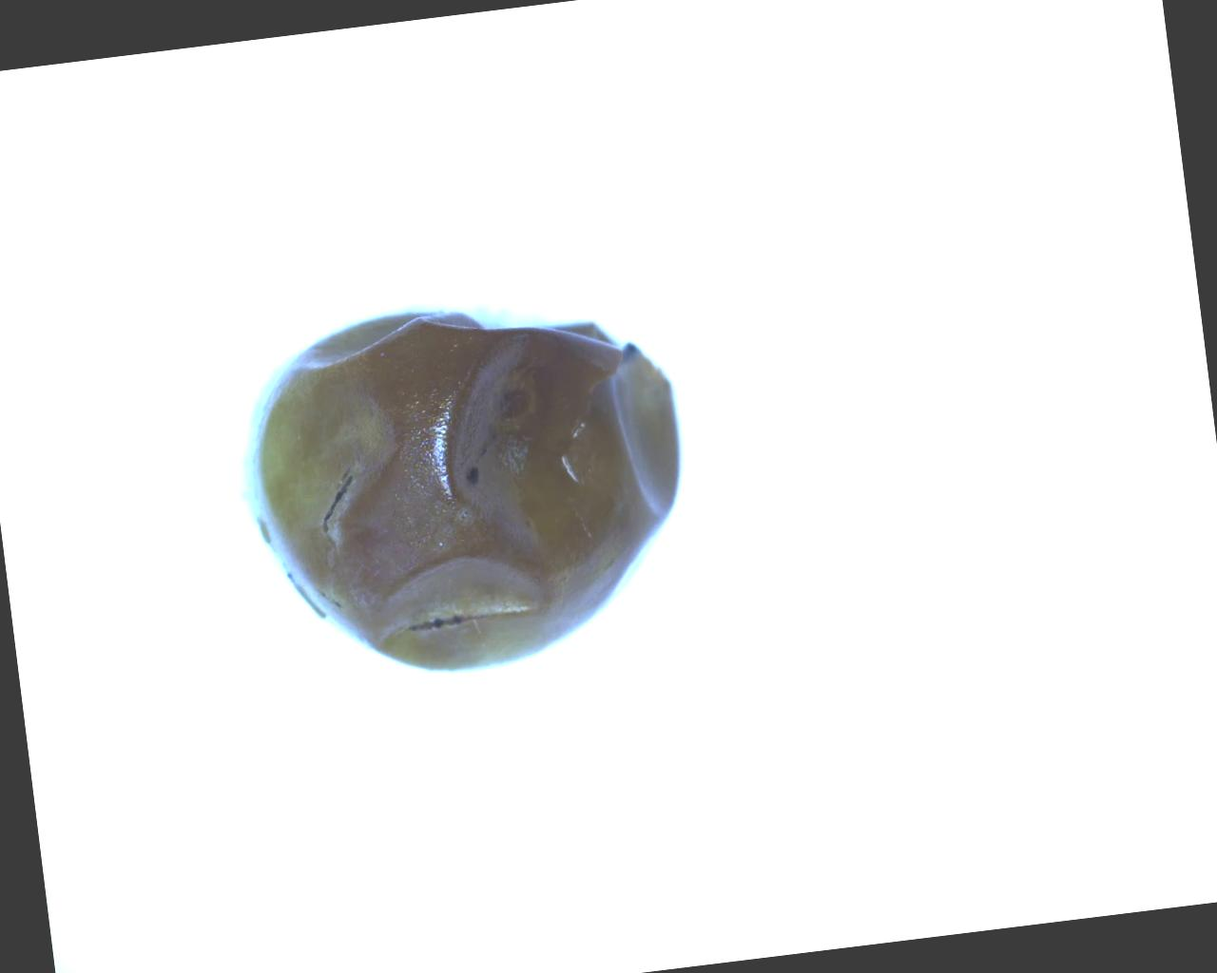Grape Rotten: (226, 277, 707, 695)
